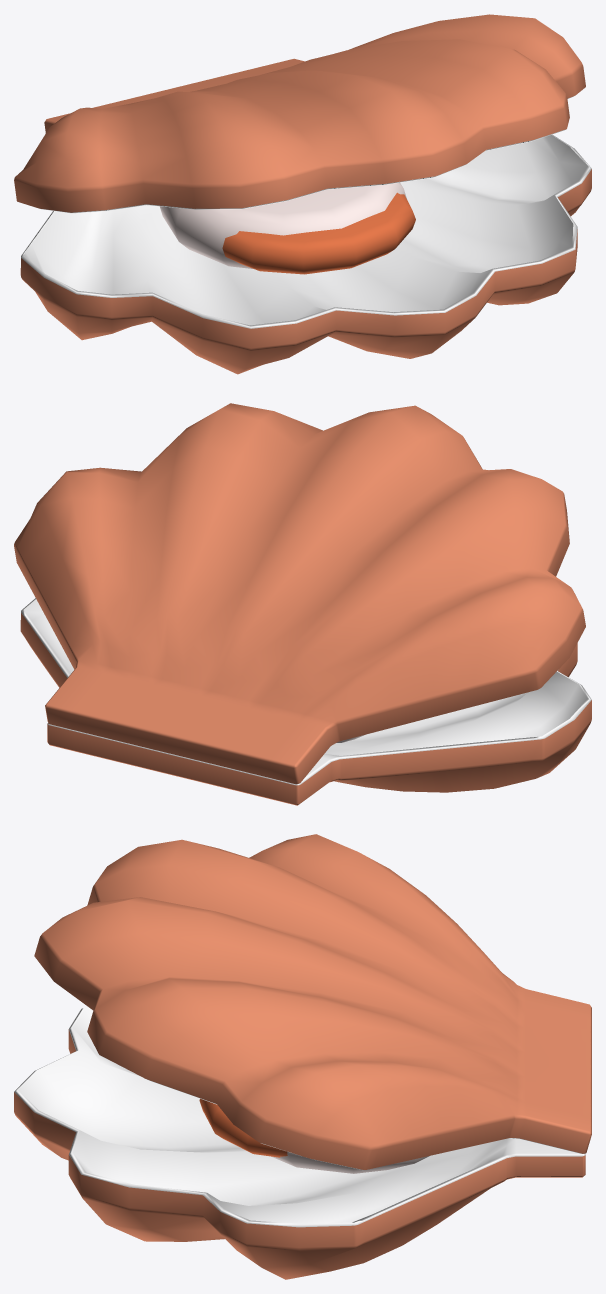
The model's file is Scallops_Open_1.fbx.
3 views of the same model, one above another, from view 1: azimuth 30°, elevation 25°; view 2: azimuth 150°, elevation 25°; view 3: azimuth 270°, elevation 25° (orthographic). The views are drawn at different scales.
Visible parts, largest first — view 1: Scallops_Open_1; view 2: Scallops_Open_1; view 3: Scallops_Open_1.
Boxes of the visible parts, <box> form: Scallops_Open_1: <box>14,14,591,374</box>; Scallops_Open_1: <box>14,403,591,805</box>; Scallops_Open_1: <box>14,834,591,1279</box>.
Size of the model in its own units: 8.08 by 3.79 by 7.28.
